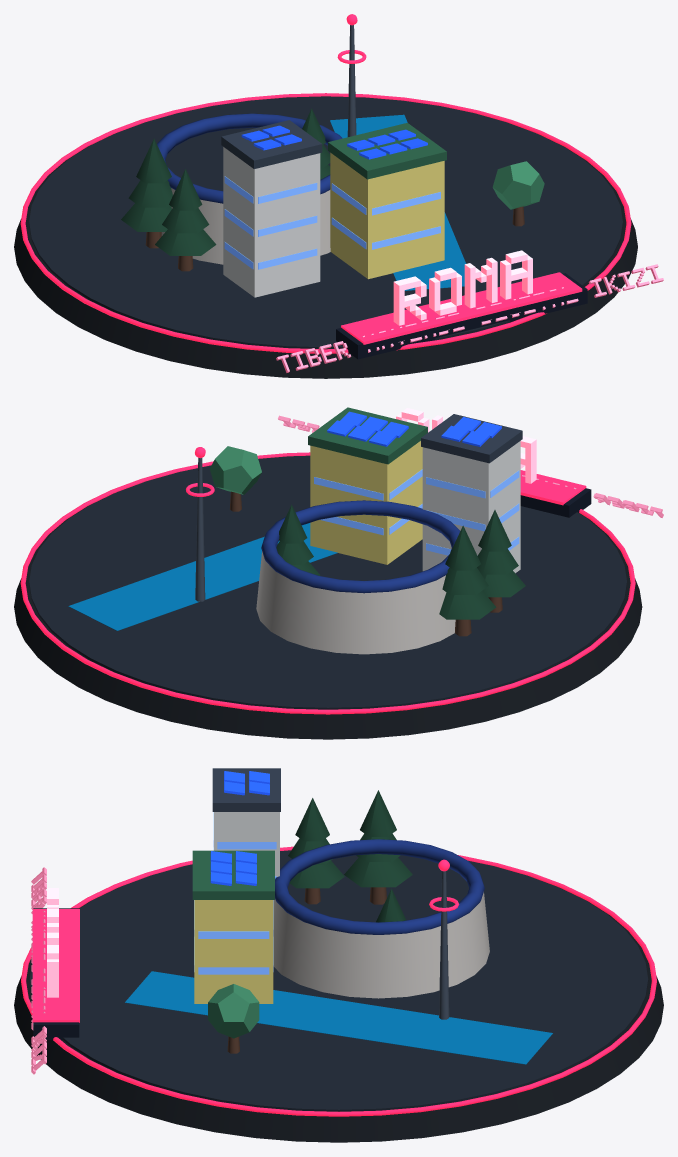
Rendered from roma.glb.
The picture shows the model from 3 angles, top to bottom: view 1: azimuth 30°, elevation 25°; view 2: azimuth 150°, elevation 25°; view 3: azimuth 270°, elevation 25°; orthographic projection. The views are drawn at different scales.
Size of the model in its own units: 9.89 by 3.09 by 9.89.
